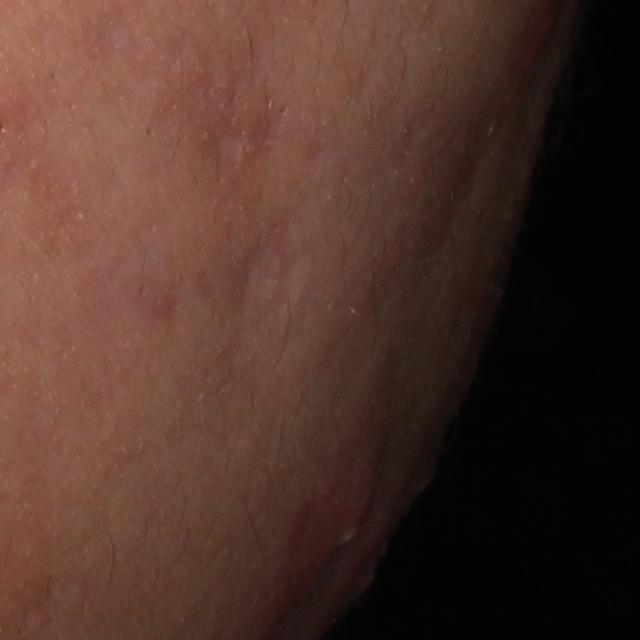atrophic_scar: (231, 228, 288, 339), (208, 108, 248, 196)
nodule: (298, 430, 400, 566), (326, 482, 415, 624)
